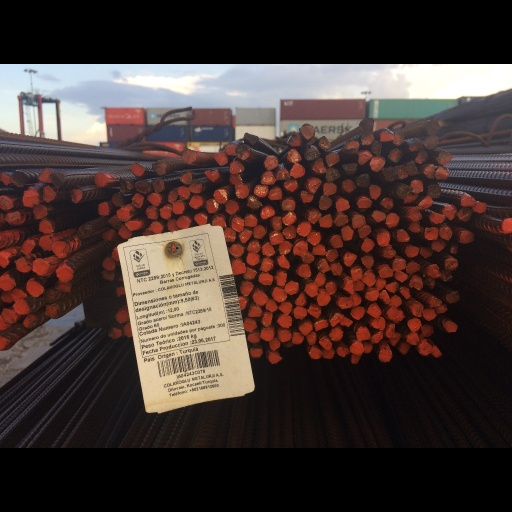dipstick: (32, 258, 49, 276), (10, 170, 27, 187), (56, 266, 74, 282), (52, 241, 69, 257), (26, 281, 43, 297), (23, 190, 39, 206), (235, 144, 251, 160), (293, 240, 308, 257), (13, 299, 29, 314), (271, 287, 287, 302), (300, 123, 315, 139), (436, 150, 452, 165), (15, 257, 30, 272), (2, 308, 17, 323), (326, 168, 341, 183), (289, 164, 305, 178), (307, 177, 321, 193), (425, 119, 439, 135), (5, 211, 20, 225), (49, 172, 64, 186), (21, 240, 35, 255), (38, 236, 52, 251), (1, 275, 15, 290), (152, 161, 167, 175), (180, 149, 195, 163), (235, 183, 249, 198), (287, 132, 302, 146), (311, 159, 326, 173), (342, 161, 357, 175), (344, 140, 358, 155), (370, 157, 385, 171), (385, 213, 399, 228), (426, 263, 440, 278), (442, 205, 456, 220), (456, 207, 471, 221), (423, 135, 438, 149), (42, 186, 55, 202), (119, 178, 132, 194), (243, 132, 259, 145), (281, 212, 297, 225), (387, 148, 403, 161), (0, 196, 14, 210), (38, 169, 52, 183), (131, 162, 145, 176), (232, 260, 246, 274), (259, 258, 273, 272), (276, 255, 290, 269), (261, 171, 275, 185), (287, 148, 301, 162), (260, 206, 274, 220), (349, 341, 363, 355), (326, 152, 340, 166), (358, 150, 372, 164), (351, 214, 365, 228), (367, 304, 381, 318), (409, 276, 423, 290), (394, 165, 408, 179), (408, 207, 422, 221), (435, 166, 449, 180), (38, 220, 53, 233), (12, 289, 27, 302), (147, 193, 162, 206), (116, 207, 131, 220), (148, 221, 163, 234), (204, 169, 219, 182), (229, 161, 244, 174), (214, 189, 227, 204), (240, 281, 253, 296), (253, 292, 268, 305), (296, 264, 311, 277), (305, 282, 318, 297), (298, 322, 313, 335), (306, 305, 321, 318), (403, 245, 418, 258), (460, 193, 475, 206), (55, 280, 71, 292), (337, 296, 353, 308), (94, 172, 107, 186), (23, 314, 36, 328), (152, 179, 165, 193), (131, 193, 144, 207), (102, 257, 115, 271), (176, 216, 190, 229), (214, 152, 227, 166), (225, 200, 238, 214), (231, 217, 244, 231), (246, 252, 260, 265), (243, 318, 257, 331), (277, 314, 291, 327), (284, 281, 298, 294), (264, 156, 278, 169), (307, 210, 321, 223), (296, 223, 310, 236), (329, 328, 343, 341), (317, 293, 331, 306), (319, 196, 332, 210), (306, 146, 320, 159), (342, 179, 356, 192), (360, 255, 373, 269), (382, 245, 396, 258), (362, 272, 375, 286), (356, 327, 370, 340), (371, 317, 385, 330), (407, 318, 421, 331), (405, 332, 419, 345), (360, 132, 374, 145), (444, 258, 458, 271), (427, 184, 441, 197), (275, 272, 287, 287), (247, 196, 262, 208), (430, 211, 445, 223), (408, 138, 423, 150), (370, 184, 381, 200), (33, 205, 46, 218), (77, 225, 90, 238), (118, 225, 131, 238), (189, 180, 202, 193), (189, 195, 202, 208), (193, 213, 206, 226), (205, 199, 218, 212), (247, 240, 260, 253), (279, 241, 292, 254), (284, 178, 297, 191), (283, 225, 296, 238), (307, 231, 320, 244), (293, 306, 306, 319), (323, 183, 336, 196), (361, 239, 374, 252), (97, 202, 109, 216), (135, 181, 149, 193), (180, 170, 192, 184), (258, 273, 272, 285), (262, 242, 274, 256), (260, 329, 274, 341), (278, 302, 292, 314), (254, 185, 268, 197), (276, 167, 290, 179), (281, 199, 295, 211), (356, 174, 370, 186), (350, 307, 364, 319), (410, 303, 422, 317), (361, 117, 373, 131), (380, 129, 394, 141), (445, 291, 459, 303), (419, 246, 433, 258), (424, 227, 438, 239), (460, 230, 474, 242), (423, 164, 435, 178), (211, 217, 226, 228), (125, 220, 141, 230), (45, 305, 58, 317), (112, 193, 124, 206), (116, 310, 128, 323), (146, 206, 158, 219), (172, 202, 184, 215), (223, 228, 235, 241), (244, 215, 257, 227), (230, 244, 243, 256), (253, 225, 265, 238), (278, 330, 291, 342), (269, 187, 281, 200), (300, 191, 313, 203), (291, 332, 304, 344), (309, 347, 322, 359), (319, 338, 332, 350), (330, 314, 343, 326), (325, 281, 337, 294), (317, 259, 329, 272), (319, 215, 332, 227), (319, 136, 331, 149), (336, 199, 349, 211), (397, 229, 409, 242), (344, 253, 356, 266), (350, 268, 362, 281), (386, 307, 399, 319), (419, 342, 431, 355), (393, 258, 406, 270), (410, 180, 423, 192), (419, 196, 432, 208), (423, 308, 436, 320), (439, 227, 451, 240), (473, 201, 486, 213), (415, 151, 428, 163), (178, 186, 189, 200), (108, 327, 122, 338), (243, 268, 257, 279), (268, 353, 282, 364), (269, 233, 283, 244), (333, 214, 347, 225), (341, 226, 352, 240), (357, 197, 371, 208), (393, 131, 404, 145), (407, 161, 418, 175), (431, 240, 445, 251), (100, 270, 115, 280), (272, 216, 282, 231), (501, 218, 511, 233), (225, 144, 237, 156), (239, 230, 251, 242), (266, 299, 278, 311), (295, 293, 307, 305), (326, 249, 338, 261), (330, 235, 342, 247), (377, 234, 389, 246), (379, 349, 391, 361), (389, 294, 401, 306), (395, 270, 407, 282), (429, 296, 441, 308), (71, 189, 82, 202), (160, 206, 171, 219), (229, 174, 242, 185), (249, 347, 262, 358), (315, 320, 328, 331), (336, 346, 349, 357), (314, 273, 325, 286), (372, 210, 385, 221), (379, 267, 392, 278), (350, 293, 361, 306), (406, 262, 419, 273), (247, 332, 261, 342), (380, 290, 390, 304), (167, 219, 178, 231), (381, 198, 393, 209), (340, 315, 352, 326), (371, 331, 382, 343), (398, 343, 410, 354), (445, 321, 457, 332), (421, 325, 433, 336), (108, 219, 121, 229), (312, 245, 325, 255), (365, 290, 378, 300), (385, 282, 398, 292), (248, 308, 262, 317), (344, 280, 353, 294), (269, 339, 280, 350), (359, 226, 370, 237), (408, 221, 419, 232), (1, 172, 11, 184), (306, 332, 316, 344), (330, 264, 342, 274), (399, 287, 409, 299), (432, 345, 442, 357), (123, 323, 132, 336), (262, 313, 271, 326), (387, 324, 395, 338), (376, 278, 386, 289)
